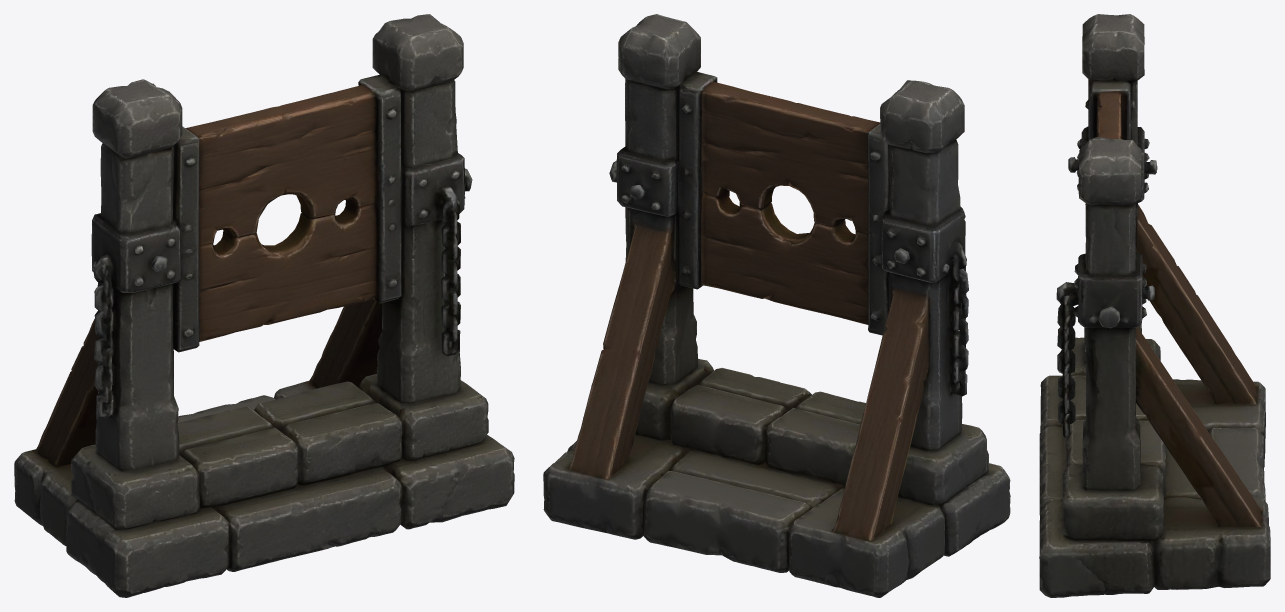
File: Stockade.fbx
3 renders of one model, left to right at view 1: azimuth 30°, elevation 25°; view 2: azimuth 150°, elevation 25°; view 3: azimuth 270°, elevation 25°, orthographic. The views are drawn at different scales.
Visible parts, largest first — view 1: Stockade; view 2: Stockade; view 3: Stockade.
Boxes of the visible parts, left/top/right/bottom form: Stockade: left=14, top=14, right=514, bottom=597; Stockade: left=543, top=14, right=1010, bottom=597; Stockade: left=1039, top=14, right=1270, bottom=597.
Size of the model in its own units: 153 by 171 by 84.46.
Materials: 1 (1 with a texture image).
